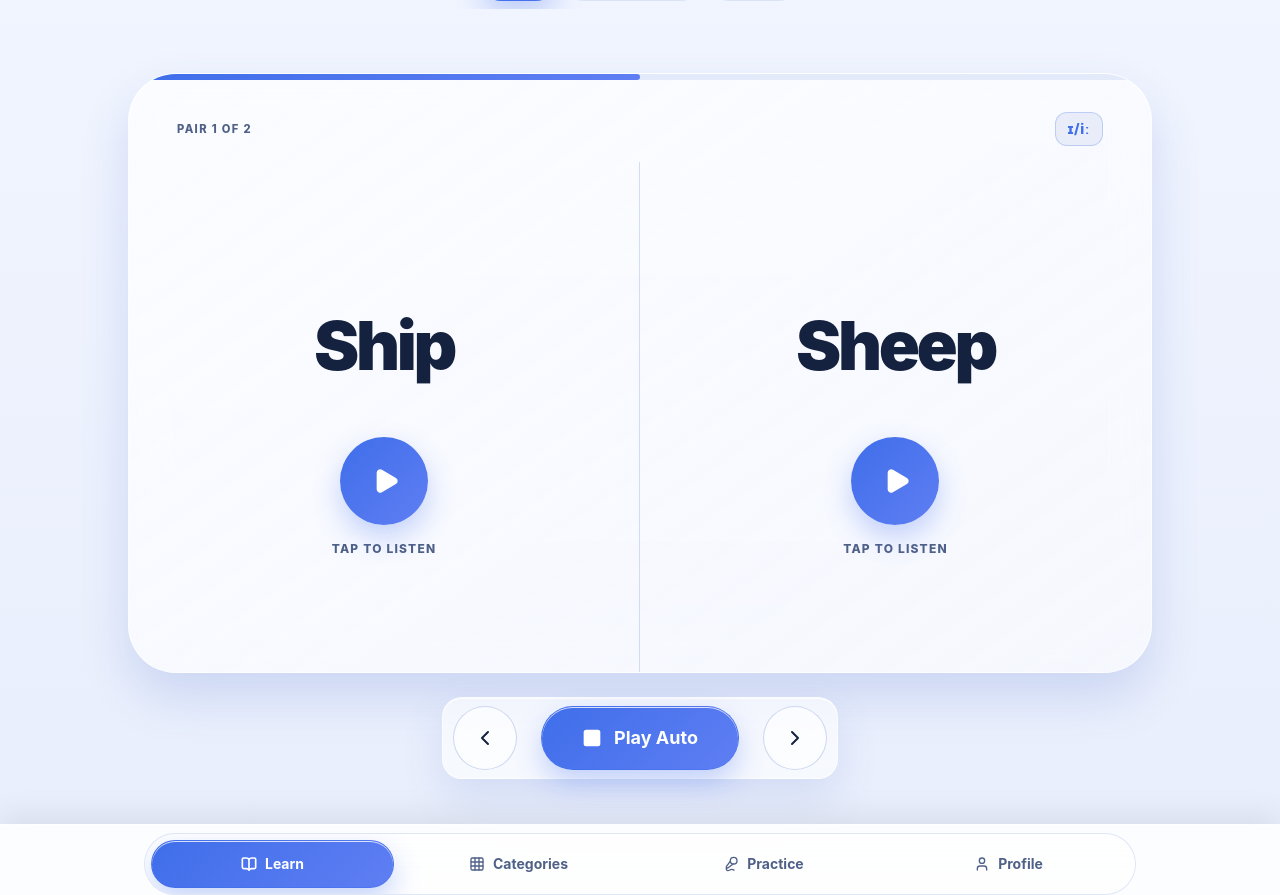
App › resets to first item when category changes
The image size is (1280, 895).
(page scrolled)
Expected: the text "Pair 1 of 2" is shown, [177, 121, 252, 137]
What coordinates should you click on to do the following:
click the button named "next pair"
I would click on:
 (795, 738)
Its box is [763, 706, 827, 770].
(page scrolled)
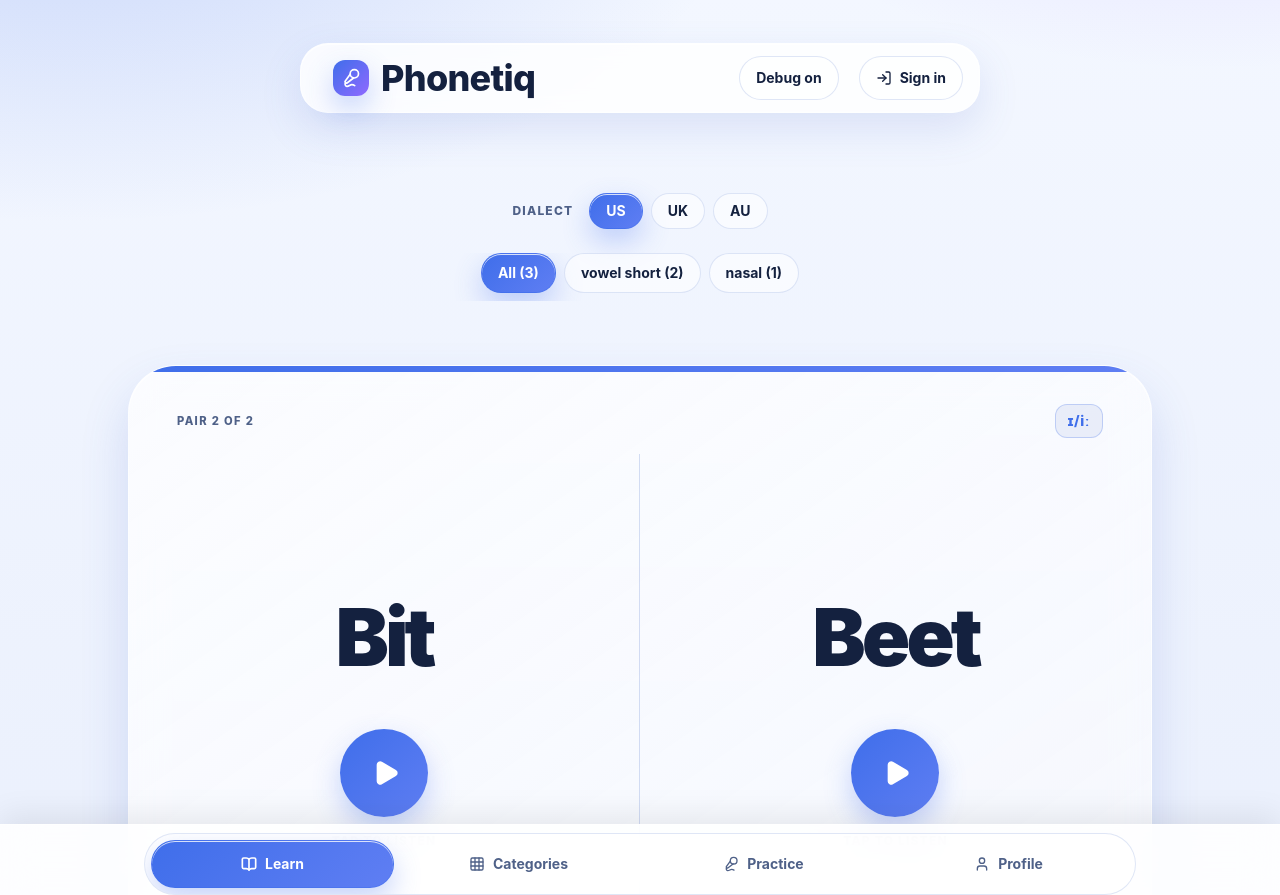
Expected: the text "Pair 2 of 2" is shown, [177, 413, 254, 429]
What coordinates should you click on to do the following:
click the button "nasal (1)"
I would click on:
 (754, 273)
Its box is [708, 253, 799, 293].
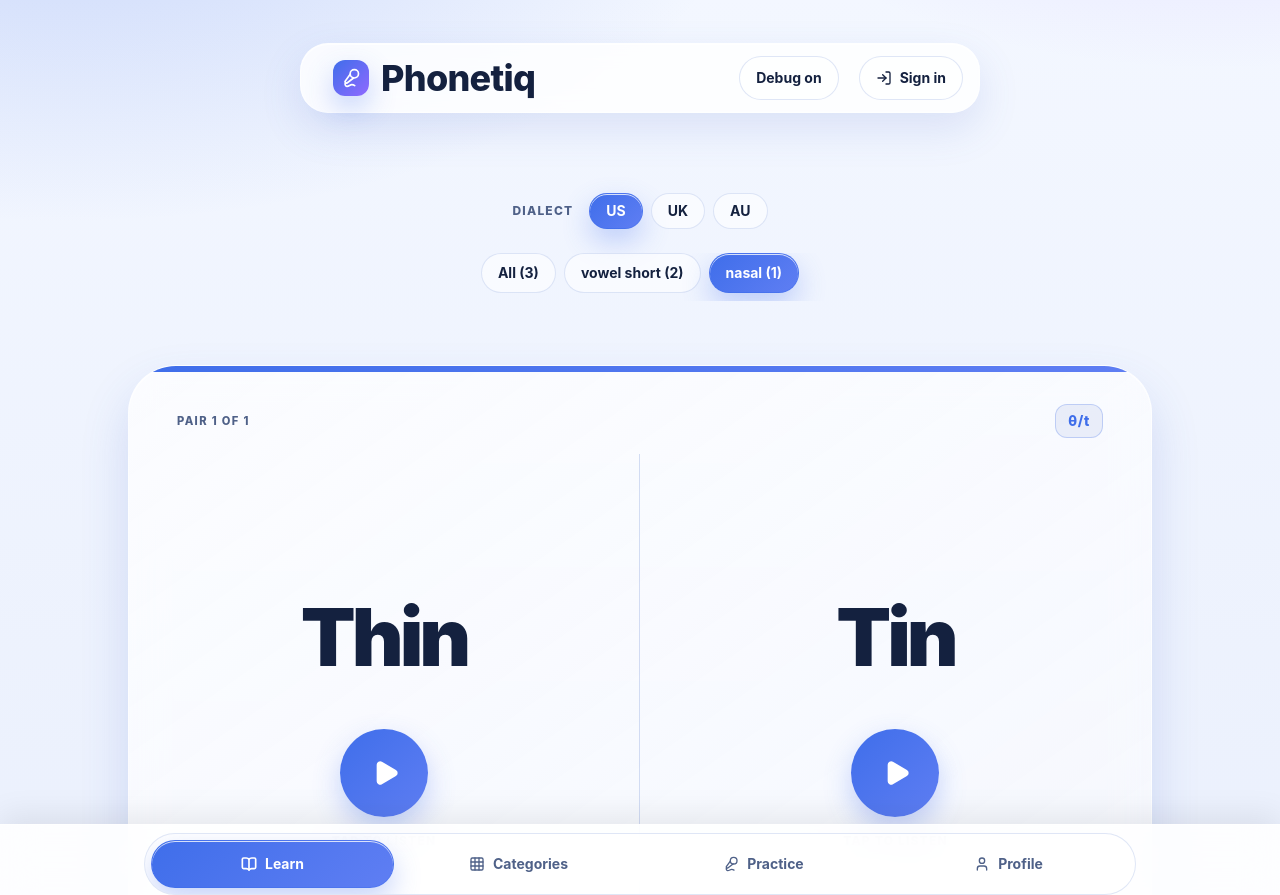
Expected: the text "Pair 1 of 1" is shown, [177, 413, 250, 429]
